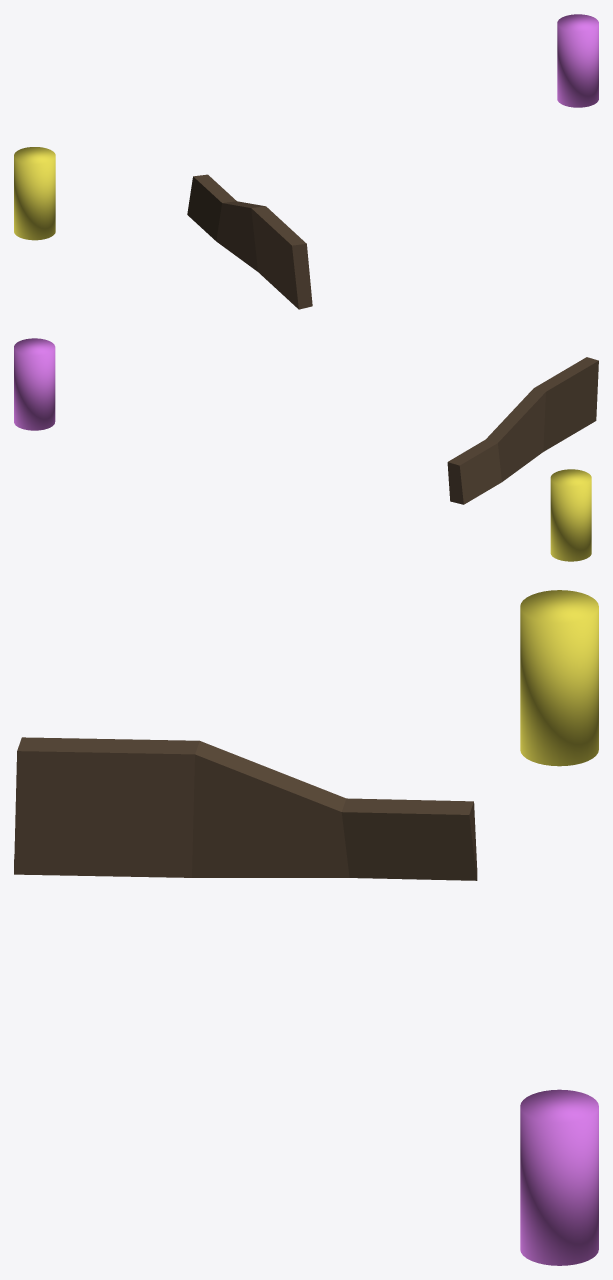
File: turn_sync_basic_scene.glb
The picture shows the model from 3 angles, top to bottom: view 1: azimuth 30°, elevation 25°; view 2: azimuth 150°, elevation 25°; view 3: azimuth 270°, elevation 25°; orthographic projection. The views are drawn at different scales.
Parts seen in each view (by area): view 1: LowWall, Player02, Player01; view 2: LowWall, Player02, Player01; view 3: LowWall, Player01, Player02.
Part boxes in pixels (x1=…): LowWall: x1=187, y1=174, x2=312, y2=309; Player02: x1=557, y1=14, x2=598, y2=107; Player01: x1=14, y1=147, x2=55, y2=240; LowWall: x1=447, y1=357, x2=598, y2=504; Player02: x1=14, y1=338, x2=55, y2=430; Player01: x1=550, y1=469, x2=591, y2=561; LowWall: x1=14, y1=737, x2=477, y2=880; Player01: x1=520, y1=590, x2=598, y2=766; Player02: x1=520, y1=1089, x2=598, y2=1265.
Size of what is drawn, in the model's own units: 16 by 2.04 by 7.42.
